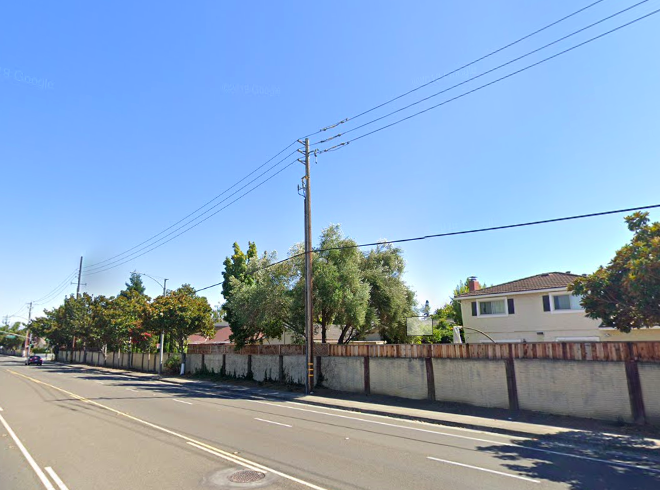utility_pole: (289, 129, 322, 173)
